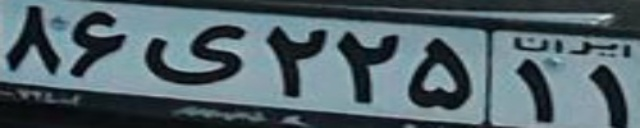1: (585, 61, 625, 127), (514, 58, 555, 122)
2: (335, 29, 400, 104), (263, 25, 328, 97)
5: (404, 36, 471, 112)
6: (70, 9, 125, 77)
8: (5, 5, 58, 73)
ye: (142, 22, 246, 84)
